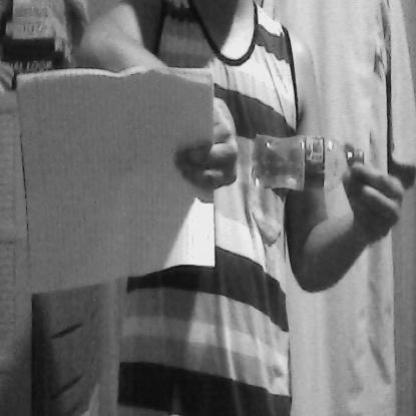Plastic Bottle: (248, 109, 371, 212)
